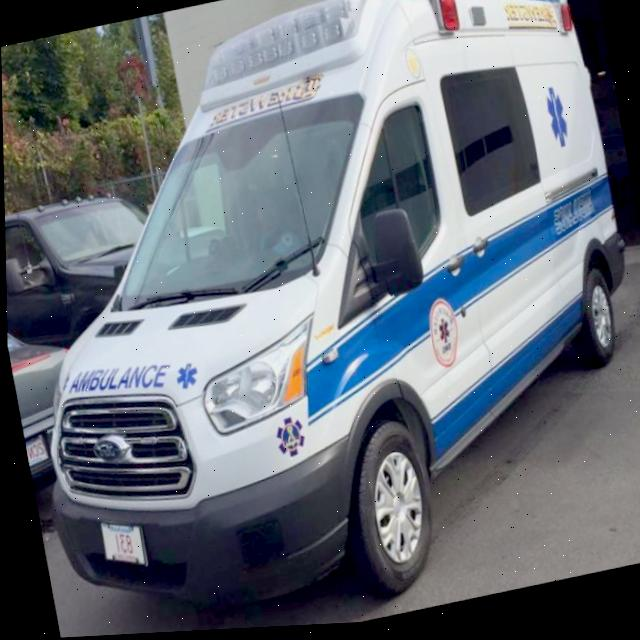emergency: (0, 0, 569, 640)
